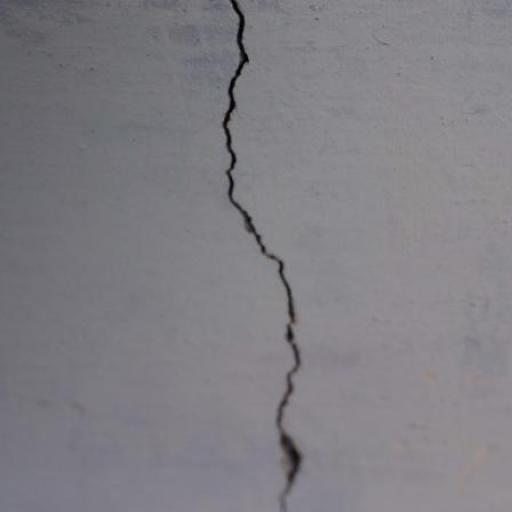spalling: (215, 6, 309, 504)
